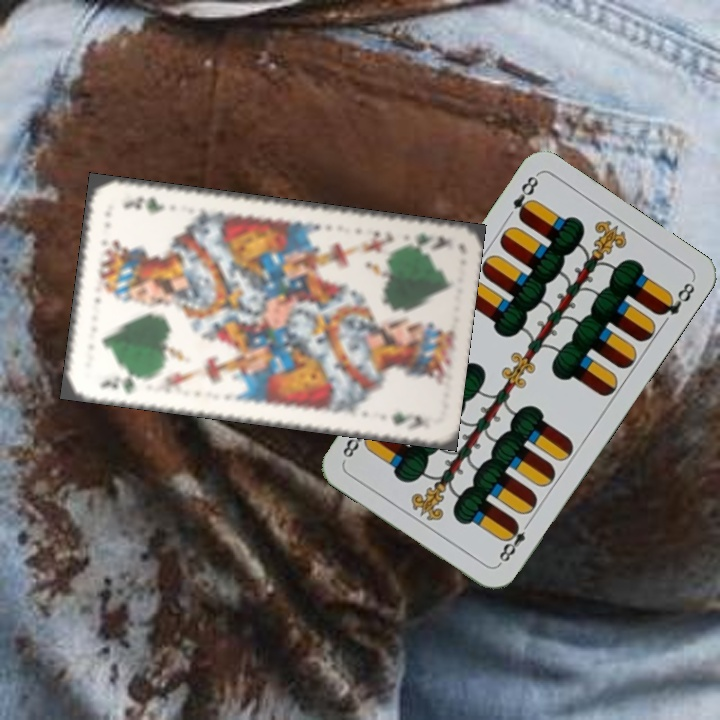E8: (494, 516, 534, 568), (509, 170, 542, 224)
GK: (94, 371, 147, 398), (397, 228, 452, 253)
